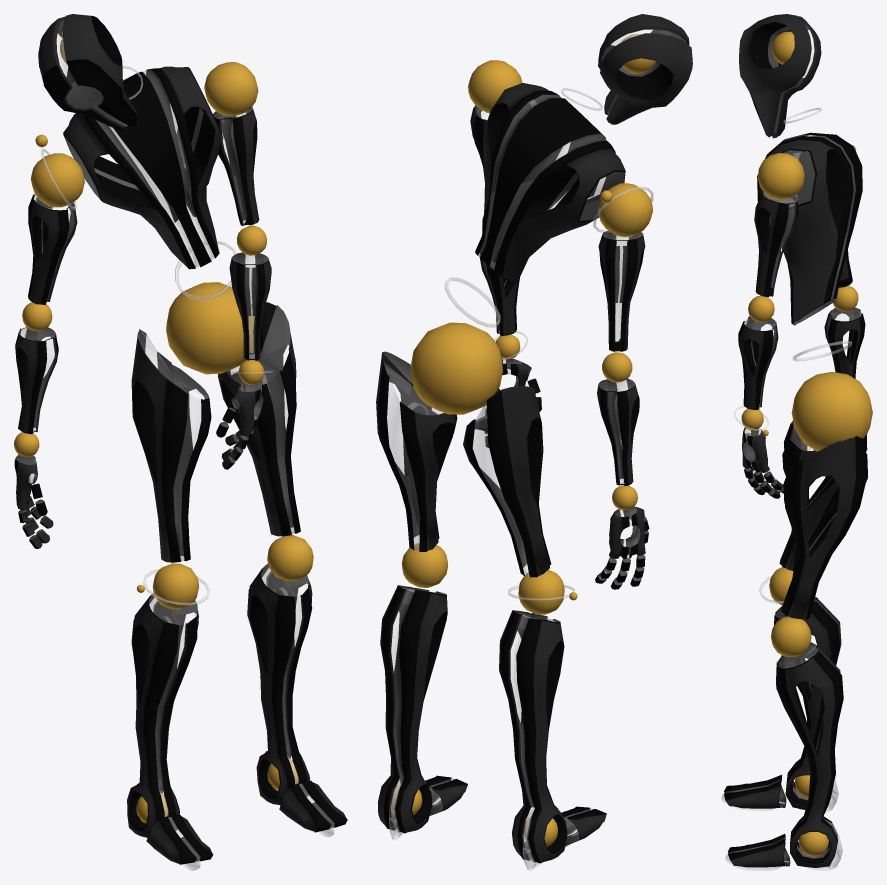
The model's file is Statue 4.fbx.
The picture shows the model from 3 angles, left to right: view 1: azimuth 30°, elevation 25°; view 2: azimuth 150°, elevation 25°; view 3: azimuth 270°, elevation 25°; orthographic projection. The views are drawn at different scales.
Visible parts, largest first — view 1: Torso V2.004; view 2: Torso V2.004; view 3: Torso V2.004.
Part boxes in pixels (x1,y1,x2,y2): Torso V2.004: [14, 14, 347, 870]; Torso V2.004: [376, 14, 692, 870]; Torso V2.004: [721, 14, 872, 870].
Size of the model in its own units: 0.5904 by 1.69 by 0.3068.
